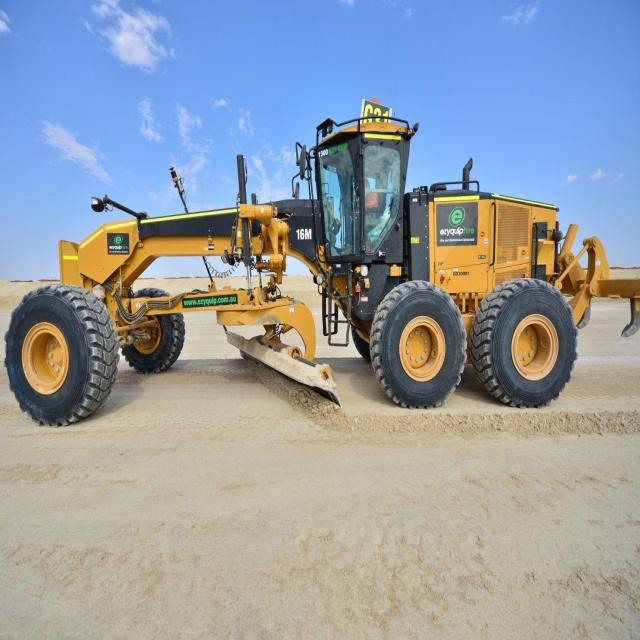Grader: (8, 101, 640, 439)
